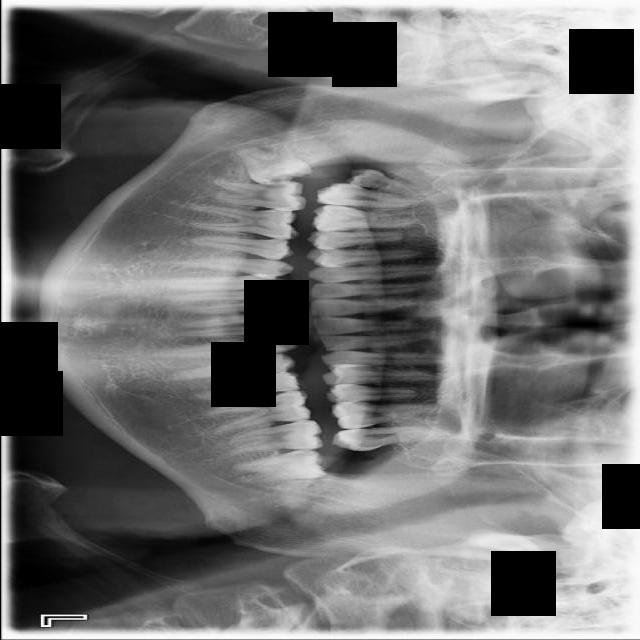3M ESPE Implant: (343, 164, 426, 200)
73: (128, 562, 142, 568)
BioHorizons Implant: (329, 421, 455, 454)
Biomet 3i Implant: (232, 447, 329, 487)
Blue Sky Bio Implant: (224, 419, 326, 456)
Caries: (315, 181, 436, 212)
Implant: (211, 179, 307, 212)
Keystone Dental Implant: (233, 138, 315, 191)
